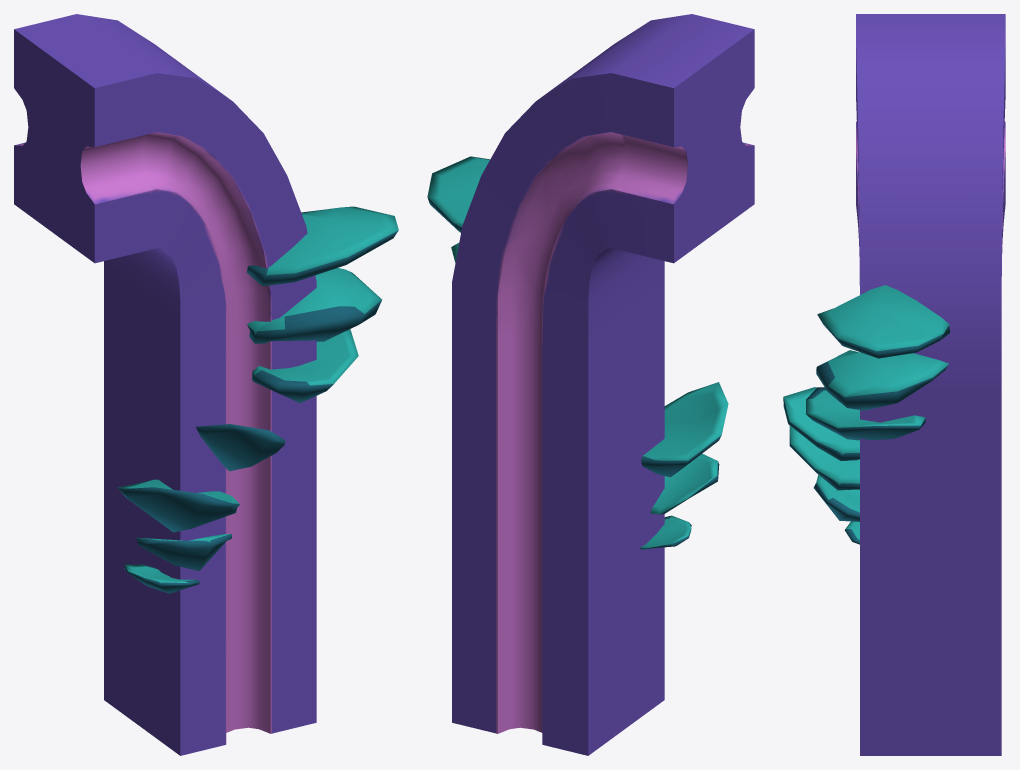
Rendered from M_Pliar03.fbx.
3 renders of one model, left to right at view 1: azimuth 30°, elevation 25°; view 2: azimuth 150°, elevation 25°; view 3: azimuth 270°, elevation 25°, orthographic. The views are drawn at different scales.
Parts seen in each view (by area): view 1: pliar03; view 2: pliar03; view 3: pliar03.
Part boxes in pixels (x1,y1,x2,y2): pliar03: (14,14,398,755); pliar03: (427,14,754,755); pliar03: (783,14,1005,755).
Size of the model in its own units: 358 by 758 by 238.
